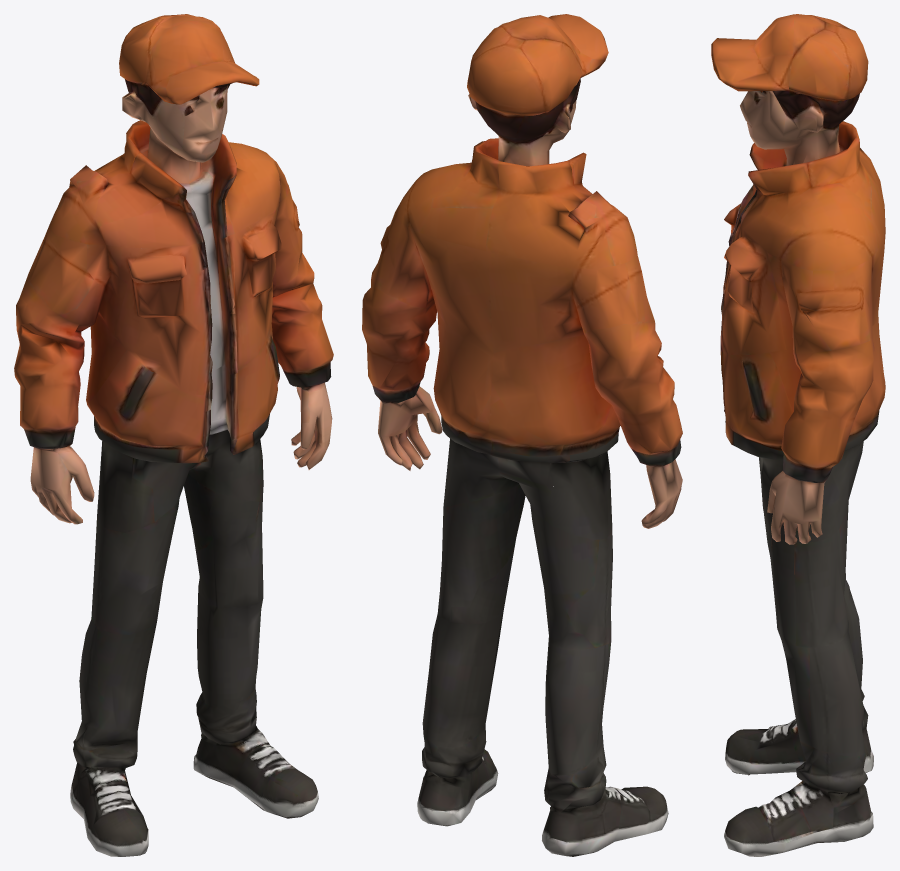
File: person_courier.glb
3 views of the same model, side by side, from view 1: azimuth 30°, elevation 25°; view 2: azimuth 150°, elevation 25°; view 3: azimuth 270°, elevation 25° (orthographic).
Visible parts, largest first — view 1: tripo_node_546b18cd-f8de-46bc-92cc-76c7823085c5; view 2: tripo_node_546b18cd-f8de-46bc-92cc-76c7823085c5; view 3: tripo_node_546b18cd-f8de-46bc-92cc-76c7823085c5.
Boxes of the visible parts, x1=… form: tripo_node_546b18cd-f8de-46bc-92cc-76c7823085c5: x1=14, y1=14, x2=333, y2=856; tripo_node_546b18cd-f8de-46bc-92cc-76c7823085c5: x1=362, y1=14, x2=682, y2=856; tripo_node_546b18cd-f8de-46bc-92cc-76c7823085c5: x1=711, y1=14, x2=885, y2=856.
Bounding box in the file's own units: 0.3922 × 0.9795 × 0.1962.
1 material, 1 textured.
